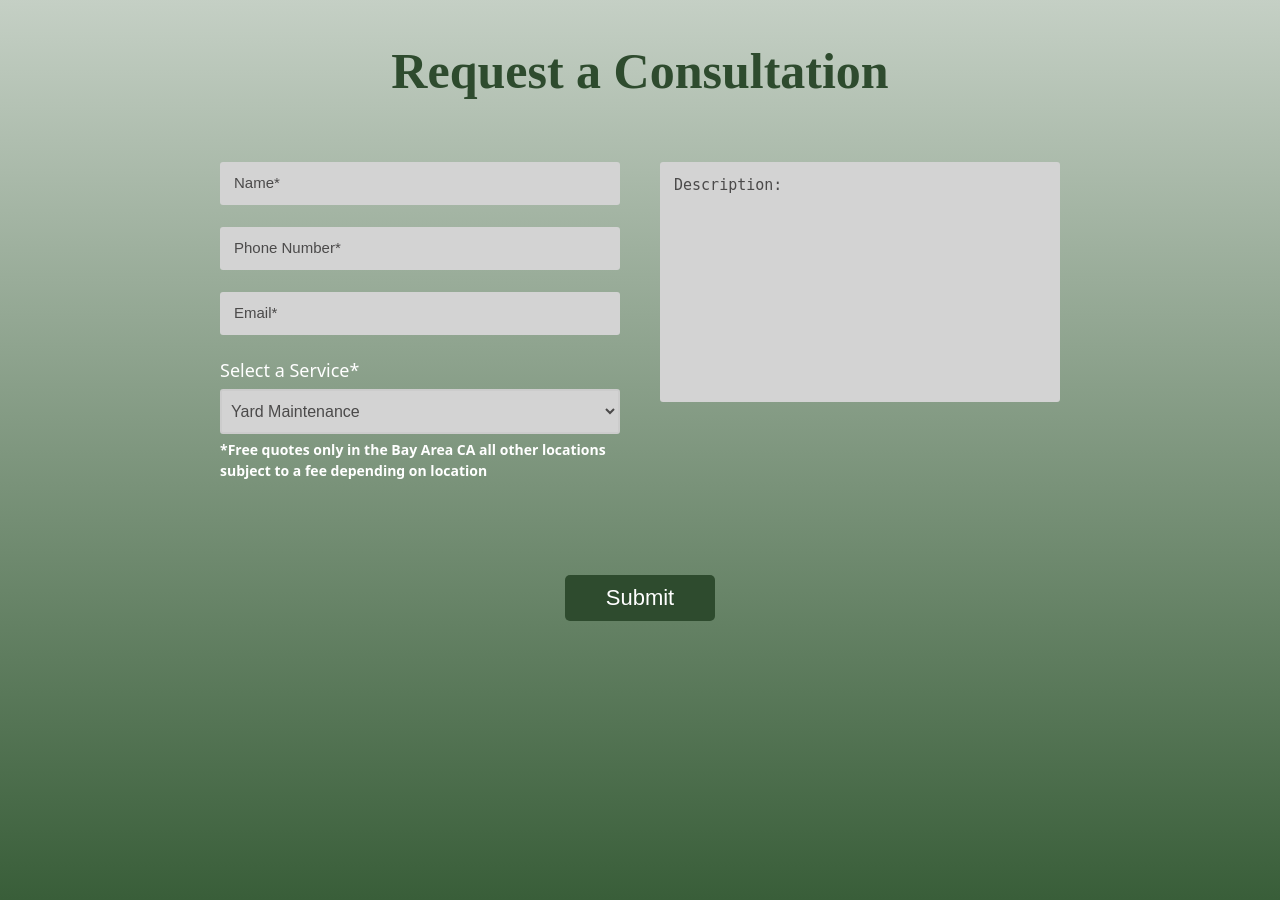
Scenario: Quote form validation › rejects a name shorter than 3 characters
Type "Jo" into the field with placeholder "Name*" at (420, 184), box x1=220 y1=162 x2=620 y2=205
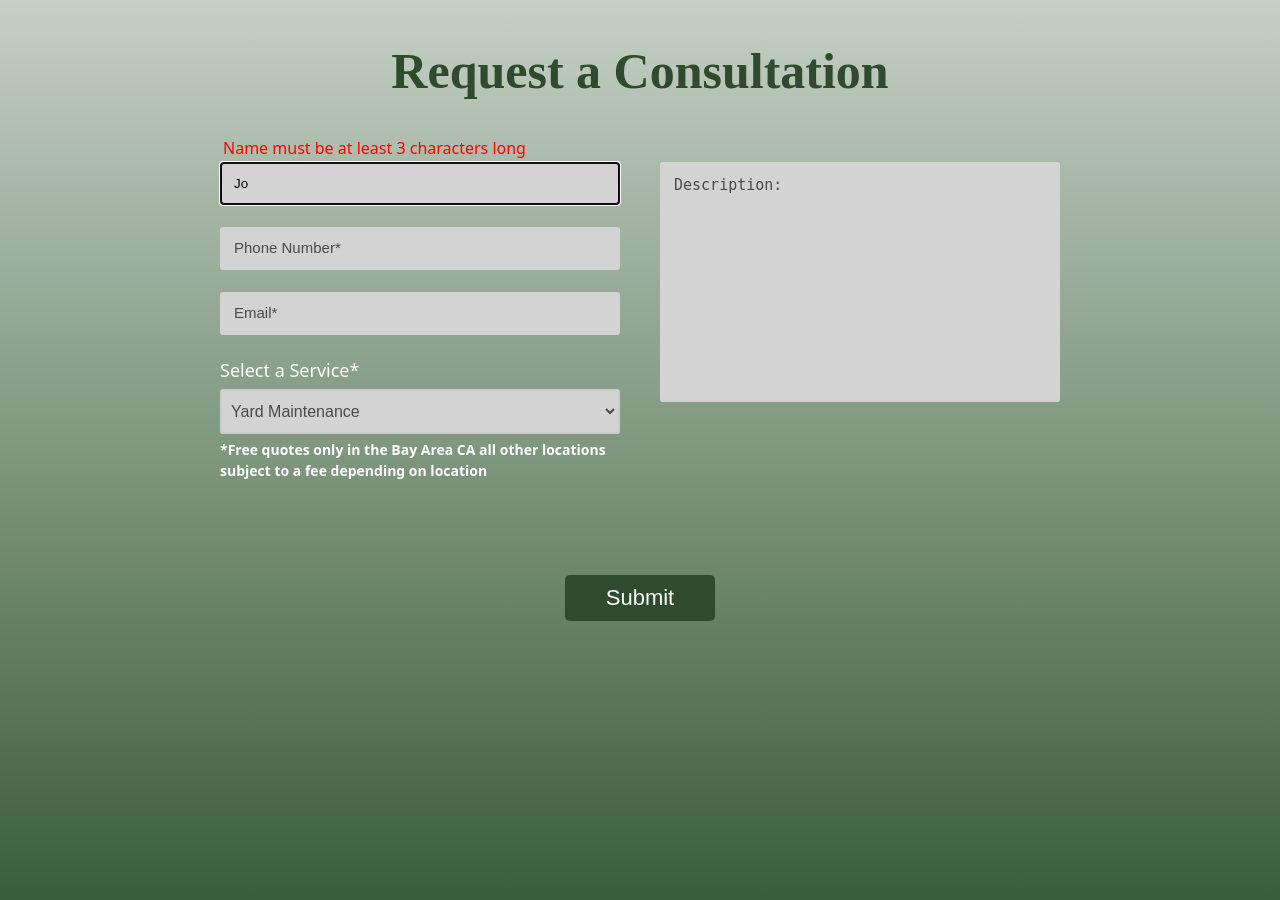
expect the text "Name must be at least 3 characters long" is shown: met, box x1=223 y1=136 x2=526 y2=160
